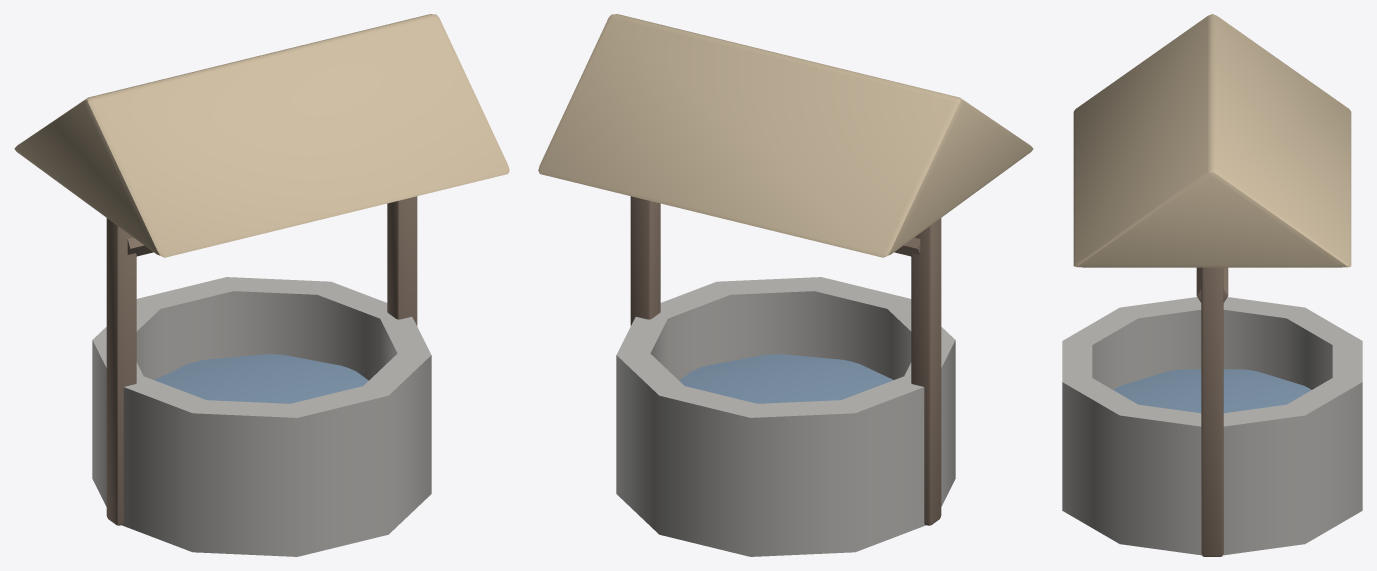
Rendered from well.gltf.
3 renders of one model, left to right at view 1: azimuth 30°, elevation 25°; view 2: azimuth 150°, elevation 25°; view 3: azimuth 270°, elevation 25°, orthographic. The views are drawn at different scales.
Visible parts, largest first — view 1: Body; view 2: Body; view 3: Body.
Part boxes in pixels (x1=…): Body: x1=14, y1=14, x2=509, y2=556; Body: x1=538, y1=14, x2=1033, y2=556; Body: x1=1062, y1=14, x2=1362, y2=556.
Size of the model in its own units: 2.4 by 2.79 by 1.9.
